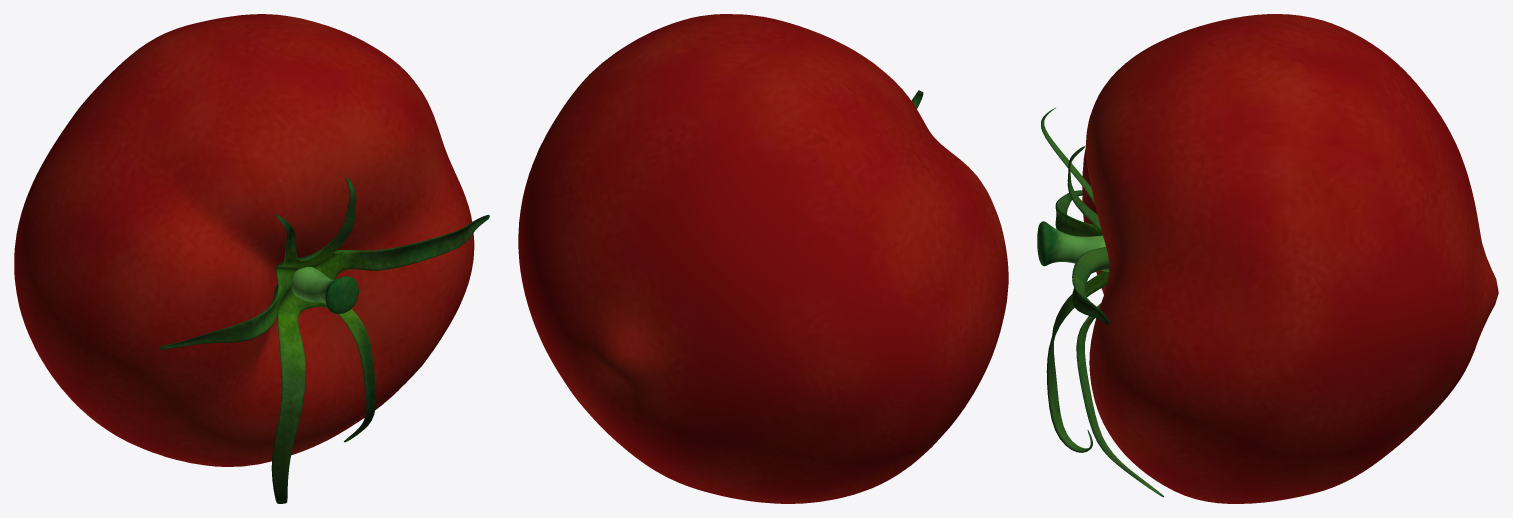
File: tomatoripe.glb
The picture shows the model from 3 angles, left to right: view 1: azimuth 30°, elevation 25°; view 2: azimuth 150°, elevation 25°; view 3: azimuth 270°, elevation 25°; orthographic projection. The views are drawn at different scales.
Visible parts, largest first — view 1: tomatoripe.034; view 2: tomatoripe.034; view 3: tomatoripe.034.
Part boxes in pixels (x1,y1,x2,y2): tomatoripe.034: [14, 14, 489, 503]; tomatoripe.034: [518, 14, 1008, 503]; tomatoripe.034: [1037, 14, 1498, 503].
Bounding box in the file's own units: 0.0419 × 0.0407 × 0.0374.
Materials: 3 (3 with a texture image).
